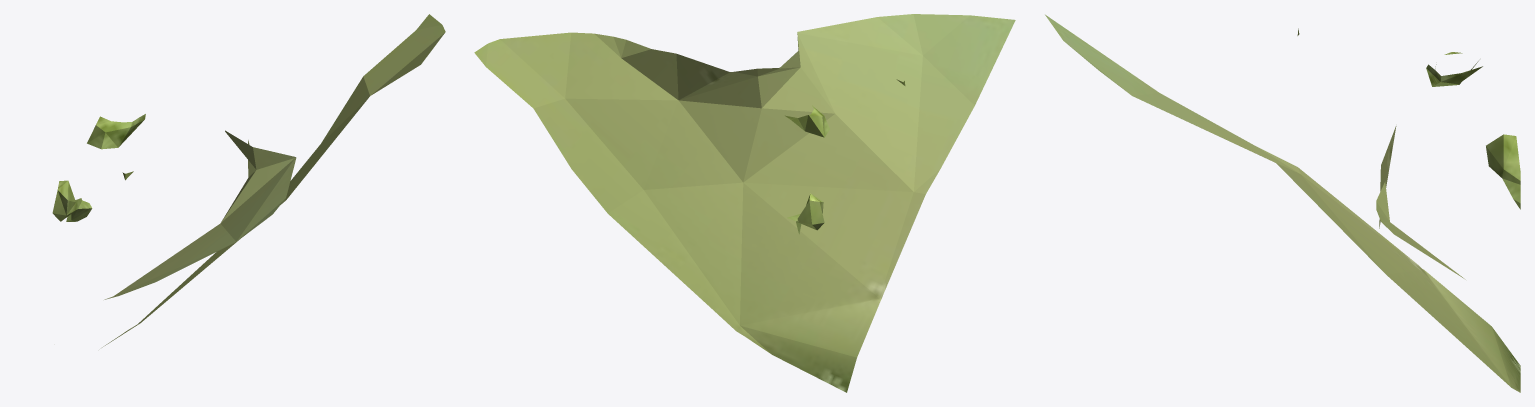
The picture shows the model from 3 angles, left to right: view 1: azimuth 30°, elevation 25°; view 2: azimuth 150°, elevation 25°; view 3: azimuth 270°, elevation 25°; orthographic projection. The views are drawn at different scales.
Size of the model in its own units: 13.53 by 8.65 by 10.62.
1 material, 1 textured.
